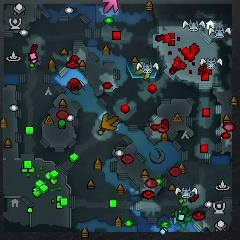x1: (102, 0, 119, 14)
x2: (136, 63, 151, 80)
x3: (173, 210, 188, 229)
x4: (174, 207, 192, 223)
x5: (101, 113, 119, 131)
